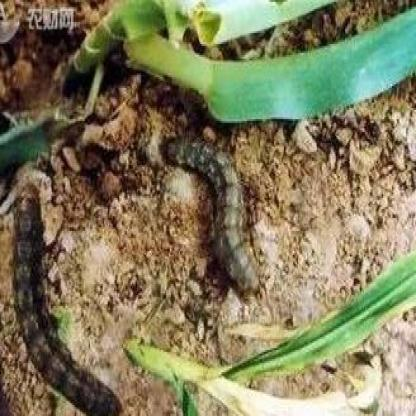armyworm: (10, 180, 129, 414), (169, 127, 262, 305)
